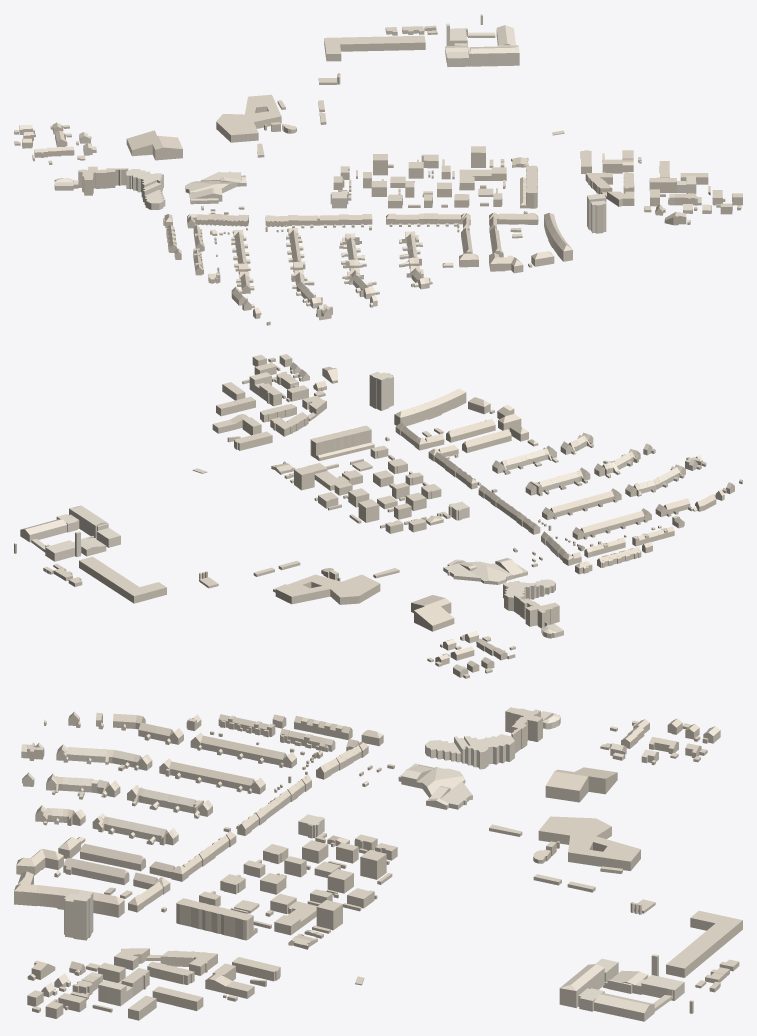
3 views of the same model, one above another, from view 1: azimuth 30°, elevation 25°; view 2: azimuth 150°, elevation 25°; view 3: azimuth 270°, elevation 25° (orthographic). The views are drawn at different scales.
Size of the model in its own units: 641 by 45.42 by 634.
